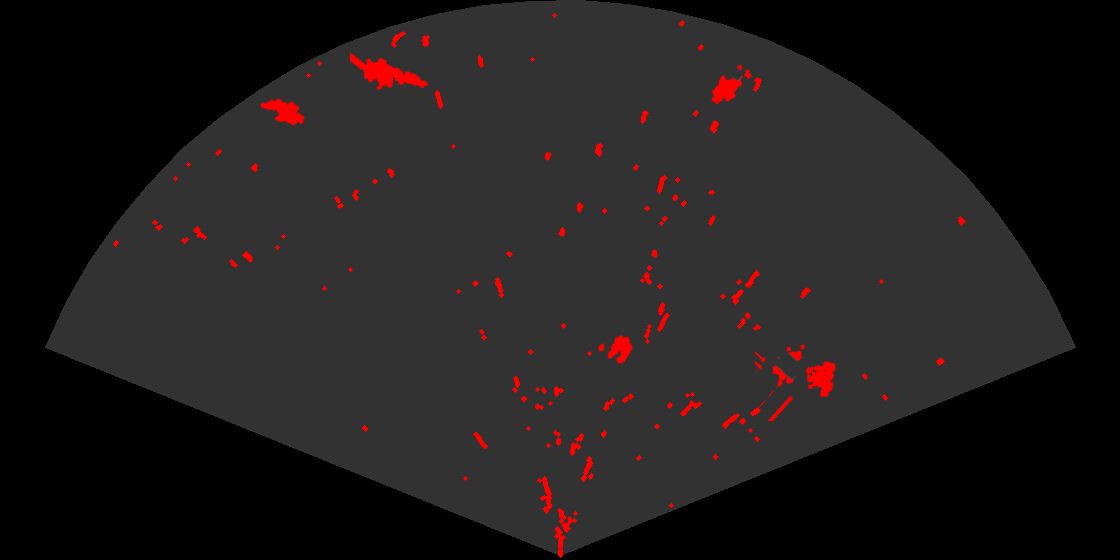AUV: (710, 63, 745, 106), (259, 97, 307, 127)
ball: (597, 334, 634, 365)
cage: (755, 343, 837, 421)
frogman: (350, 51, 430, 91)
